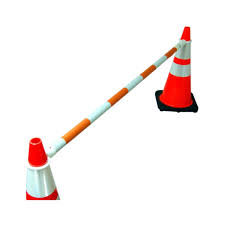cones: (23, 139, 66, 225), (158, 28, 198, 118)
